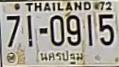0: (49, 14, 64, 45)
1: (26, 14, 32, 46), (87, 14, 92, 46)
5: (98, 13, 113, 45)
7: (6, 16, 19, 46)
9: (66, 14, 80, 45)
NPT: (38, 49, 85, 64)
